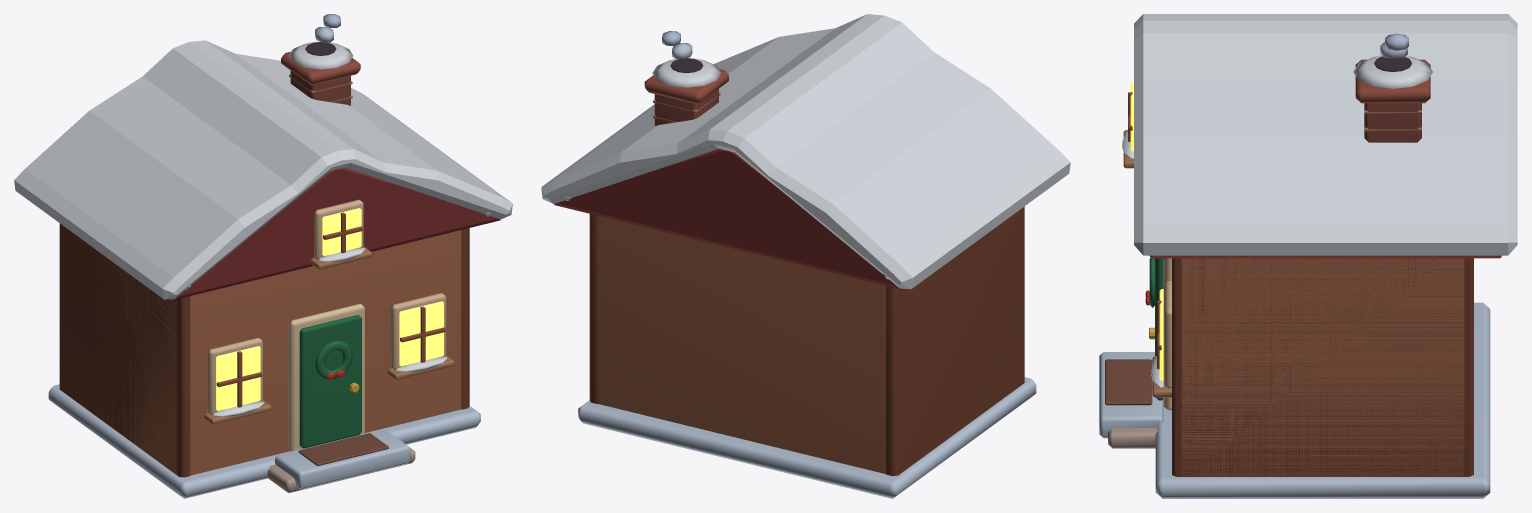
The model's file is house_a.glb.
The picture shows the model from 3 angles, left to right: view 1: azimuth 30°, elevation 25°; view 2: azimuth 150°, elevation 25°; view 3: azimuth 270°, elevation 25°; orthographic projection. The views are drawn at different scales.
Parts seen in each view (by area): view 1: house_a; view 2: house_a; view 3: house_a.
Part boxes in pixels (x1,y1,x2,y2): house_a: (14, 14, 512, 498); house_a: (541, 14, 1070, 498); house_a: (1099, 14, 1517, 498).
Bounding box in the file's own units: 5.16 × 5 × 4.35.
